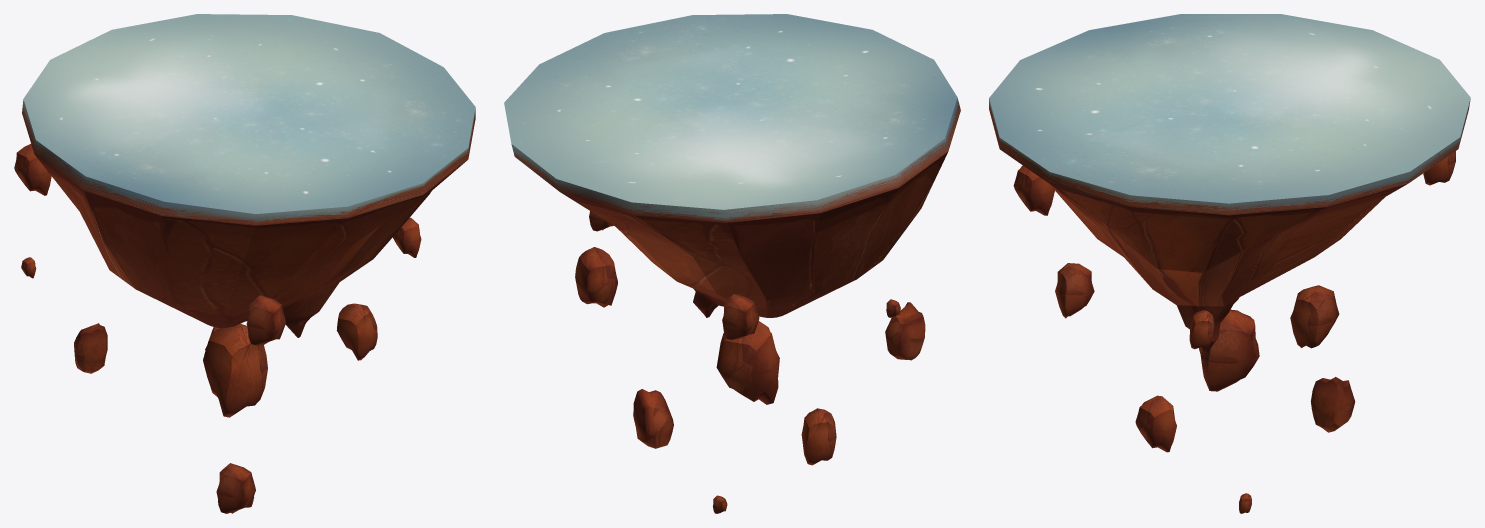
File: ICE_ARENA_FBX.fbx
3 views of the same model, side by side, from view 1: azimuth 30°, elevation 25°; view 2: azimuth 150°, elevation 25°; view 3: azimuth 270°, elevation 25° (orthographic).
Visible parts, largest first — view 1: polySurface2; view 2: polySurface2; view 3: polySurface2.
Part boxes in pixels (x1,y1,x2,y2): polySurface2: [14, 14, 475, 513]; polySurface2: [504, 14, 960, 513]; polySurface2: [989, 14, 1470, 513].
Bounding box in the file's own units: 167 × 163 × 176.
